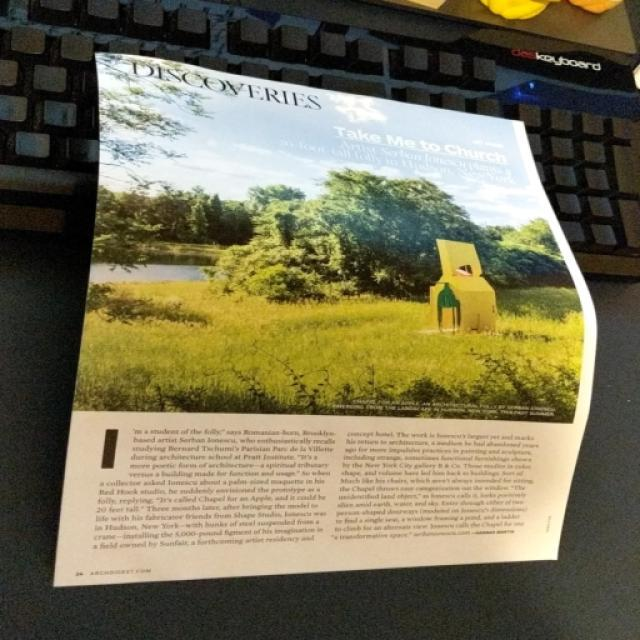document: (55, 56, 596, 584)
